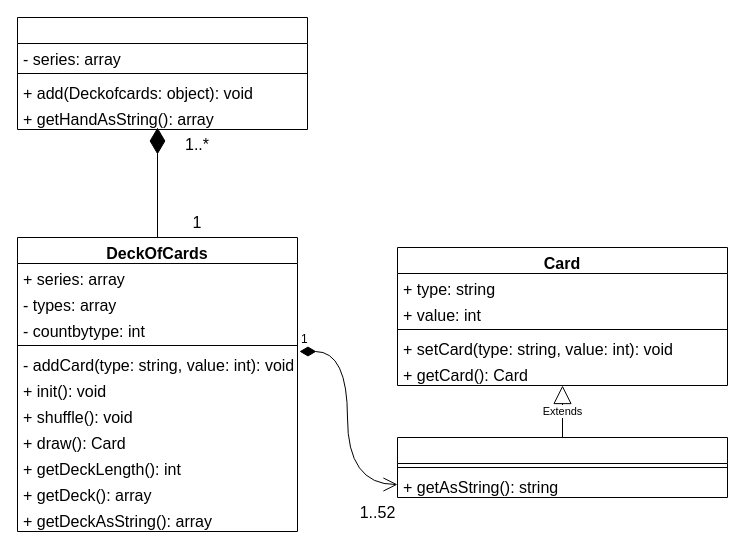
The diagram is 745 pixels wide and 552 high, and some of its shapes have lost their labels. Here are the shapes that lost their labels. From the top down, the box of each, then its label:
(16, 16, 308, 130): CardHand
(396, 436, 728, 498): CardGraphics
